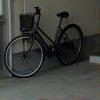bicycles: (4, 5, 86, 79)
